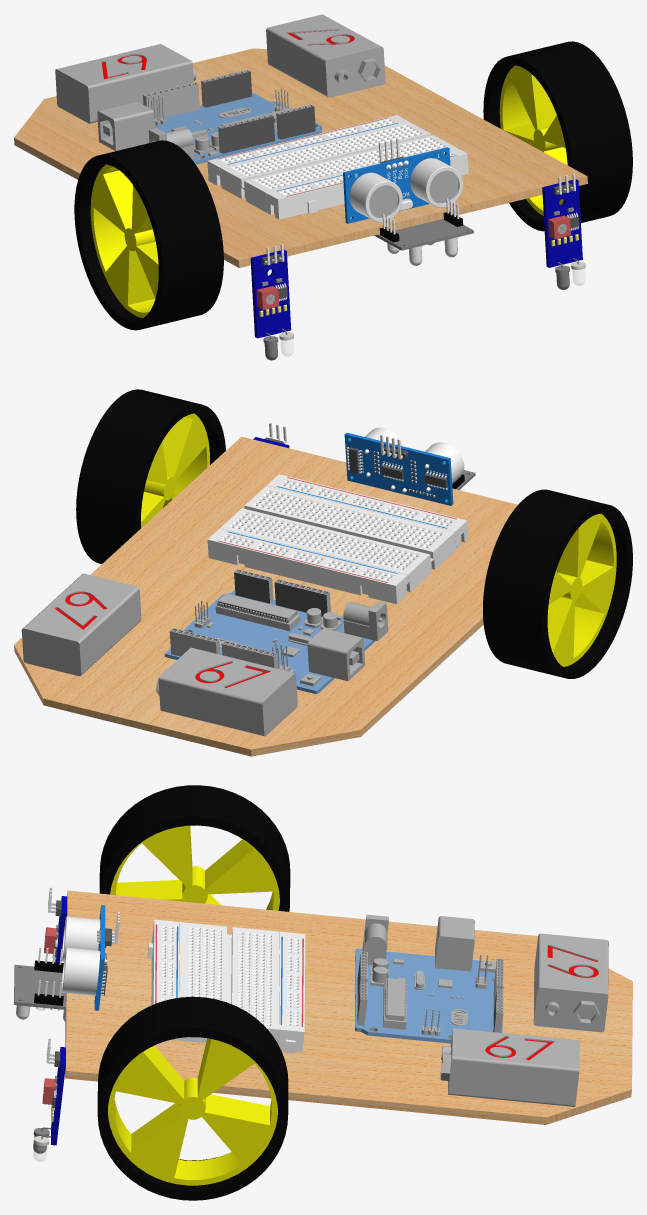
The model's file is utra_robot(v3).gltf.
3 renders of one model, top to bottom at view 1: azimuth 30°, elevation 25°; view 2: azimuth 150°, elevation 25°; view 3: azimuth 270°, elevation 25°, orthographic. The views are drawn at different scales.
Visible parts, largest first — view 1: plate-1, wheel-2, wheel-1, breadboard-1, arduino-1, battery-2, battery-1, ultrasonic-sensor-1, sensor-2, sensor-1, color-sensor-1; view 2: plate-1, wheel-2, breadboard-1, wheel-1, arduino-1, battery-1, battery-2, ultrasonic-sensor-1; view 3: plate-1, wheel-1, wheel-2, arduino-1, breadboard-1, battery-2, battery-1, ultrasonic-sensor-1, color-sensor-1, sensor-1, sensor-2.
Boxes of the visible parts, x1=… form: plate-1: x1=14, y1=48, x2=587, y2=267; wheel-2: x1=74, y1=140, x2=223, y2=330; wheel-1: x1=483, y1=41, x2=632, y2=231; breadboard-1: x1=207, y1=115, x2=468, y2=219; arduino-1: x1=97, y1=69, x2=321, y2=164; battery-2: x1=266, y1=14, x2=385, y2=97; battery-1: x1=55, y1=44, x2=196, y2=123; ultrasonic-sensor-1: x1=343, y1=138, x2=462, y2=223; sensor-2: x1=250, y1=244, x2=293, y2=360; sensor-1: x1=542, y1=173, x2=585, y2=289; color-sensor-1: x1=374, y1=198, x2=473, y2=265; plate-1: x1=14, y1=436, x2=517, y2=756; wheel-2: x1=483, y1=489, x2=632, y2=678; breadboard-1: x1=207, y1=474, x2=468, y2=604; wheel-1: x1=76, y1=389, x2=225, y2=564; arduino-1: x1=164, y1=569, x2=388, y2=693; battery-1: x1=155, y1=647, x2=297, y2=736; battery-2: x1=21, y1=573, x2=141, y2=676; ultrasonic-sensor-1: x1=344, y1=427, x2=464, y2=505; plate-1: x1=65, y1=890, x2=632, y2=1124; wheel-1: x1=97, y1=996, x2=288, y2=1200; wheel-2: x1=99, y1=785, x2=290, y2=911; arduino-1: x1=355, y1=914, x2=503, y2=1043; breadboard-1: x1=147, y1=919, x2=305, y2=1053; battery-2: x1=440, y1=1028, x2=579, y2=1106; battery-1: x1=533, y1=933, x2=608, y2=1032; ultrasonic-sensor-1: x1=61, y1=905, x2=119, y2=1010; color-sensor-1: x1=14, y1=947, x2=65, y2=1021; sensor-1: x1=33, y1=1038, x2=65, y2=1161; sensor-2: x1=35, y1=887, x2=67, y2=1010.
Bounding box in the file's own units: 0.2023 × 0.0732 × 0.2176.
Materials: 67 (1 with a texture image).
